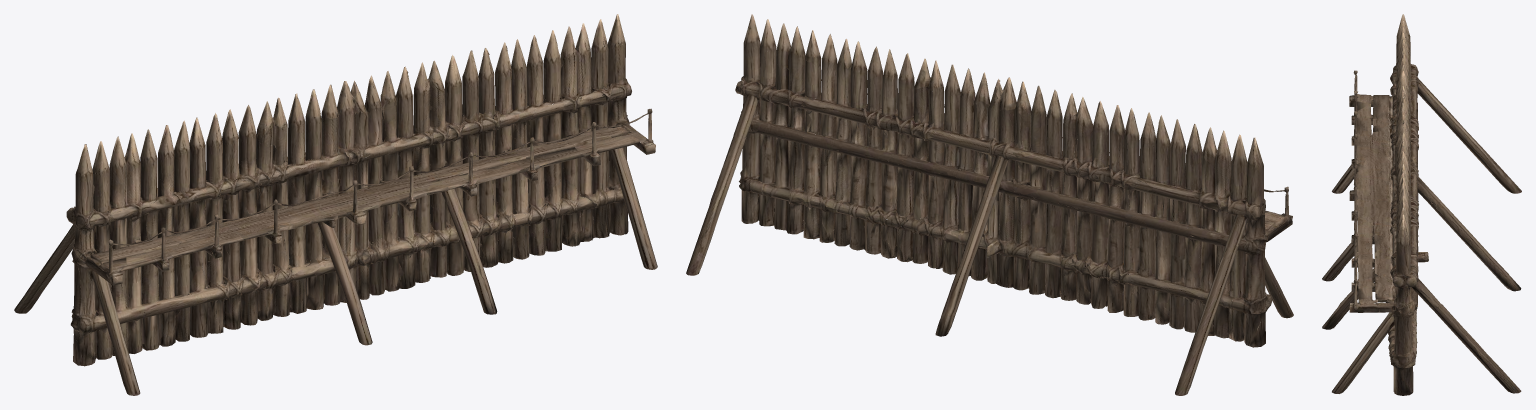
Rendered from o81_yurume_yollu_ahsap_palisat.glb.
3 renders of one model, left to right at view 1: azimuth 30°, elevation 25°; view 2: azimuth 150°, elevation 25°; view 3: azimuth 270°, elevation 25°, orthographic. The views are drawn at different scales.
Visible parts, largest first — view 1: mesh_node; view 2: mesh_node; view 3: mesh_node.
Part boxes in pixels (bbox=[...]): mesh_node: bbox=[14, 14, 657, 395]; mesh_node: bbox=[686, 14, 1293, 395]; mesh_node: bbox=[1322, 14, 1521, 395].
Bounding box in the file's own units: 1.9 × 0.723 × 0.7462.
Materials: 1 (1 with a texture image).
